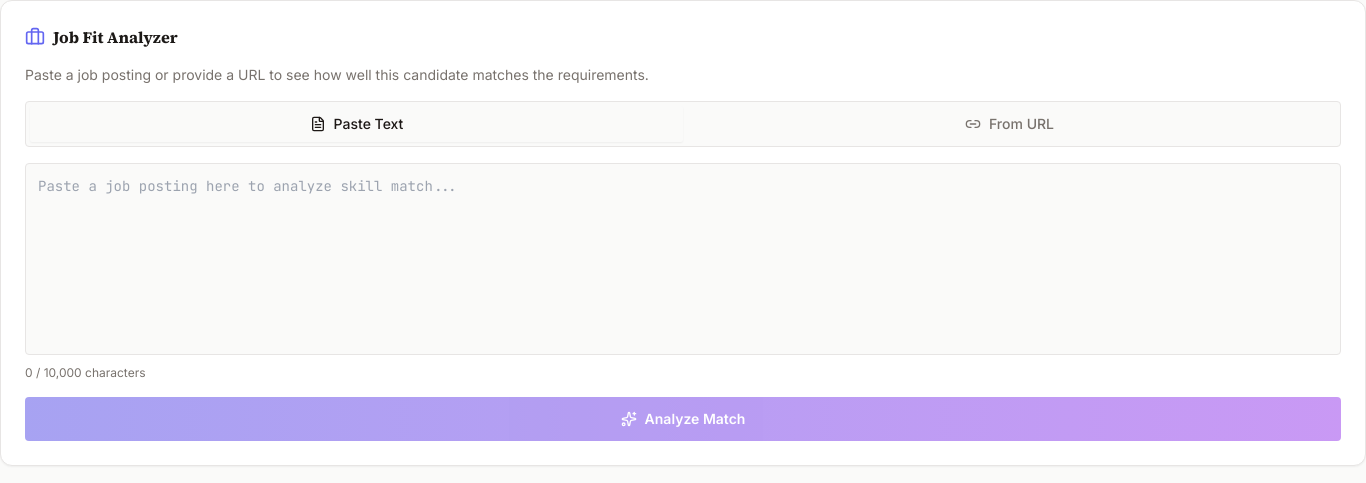
Test: JobPostingMatcher › enables analyze button when textarea has content
Type "Senior DevOps Engineer needed" into the text box with placeholder "Paste a job posting here to analyze skill match..." at (683, 259), box [25,163,1341,355]
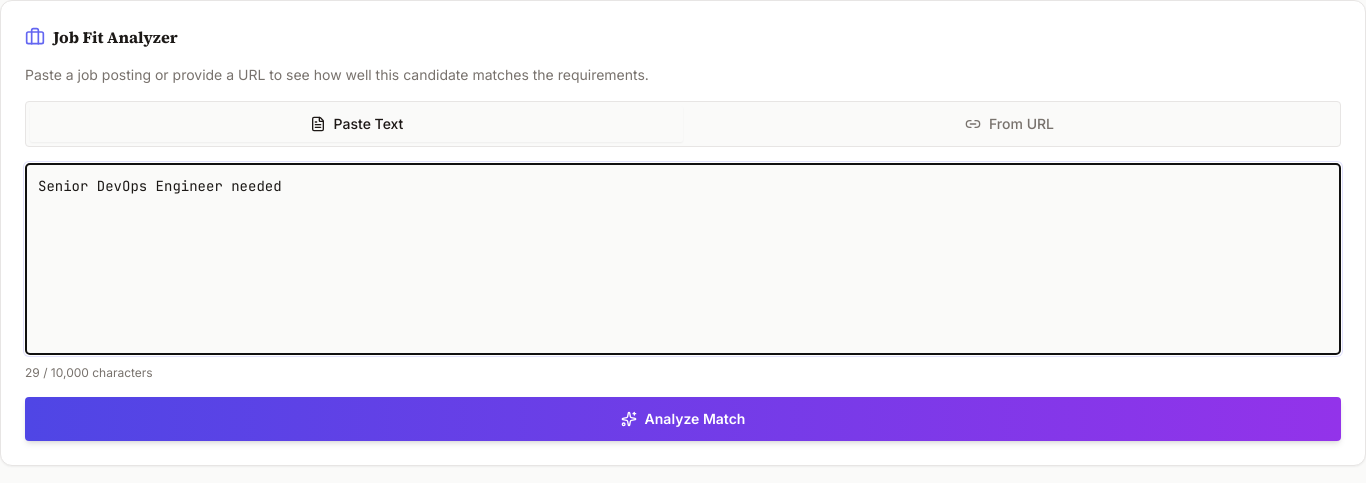
expect the button "Analyze Match" is enabled: met, box [25,397,1341,441]
